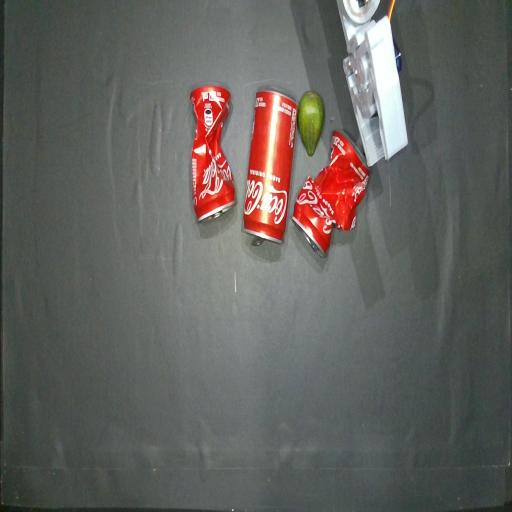higo: (298, 91, 325, 155)
lata: (244, 90, 298, 244)
lata_defectuoso: (292, 131, 369, 256), (190, 84, 236, 221)
